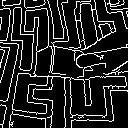cube: (37, 44, 85, 79)
